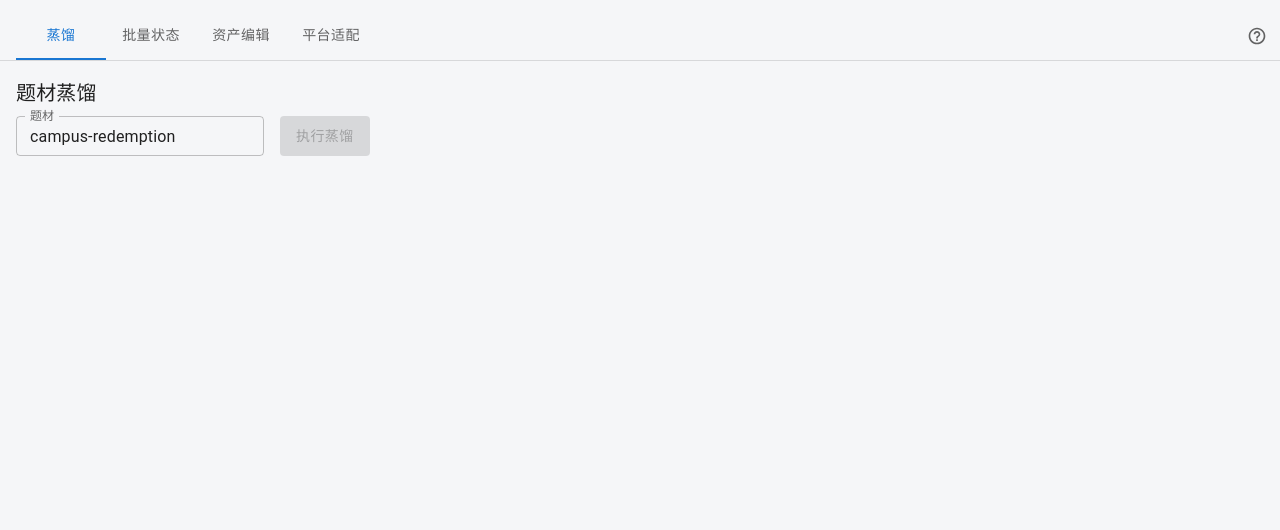
Test: 资产编辑面板 kind 标签边界 › 下拉与选中态 Chip 显示中文标签，索引不进可编辑列表
The image size is (1280, 530).
Click the tab "资产编辑" at (241, 36), box [196, 12, 286, 60]
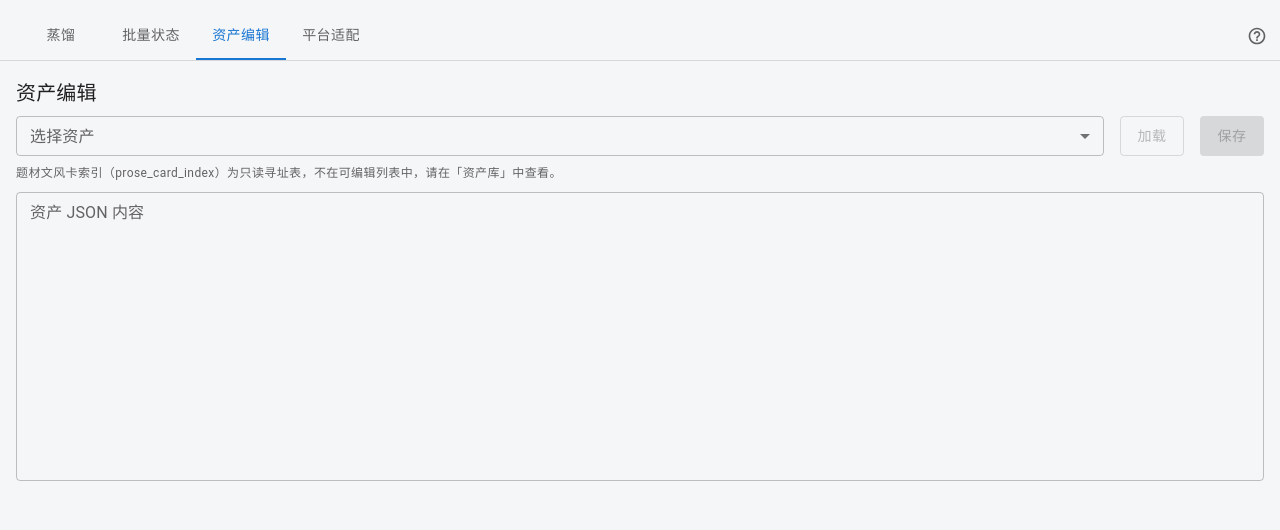
Press the mouse on the dropdown named "选择资产" at (560, 136), box [16, 116, 1104, 156]
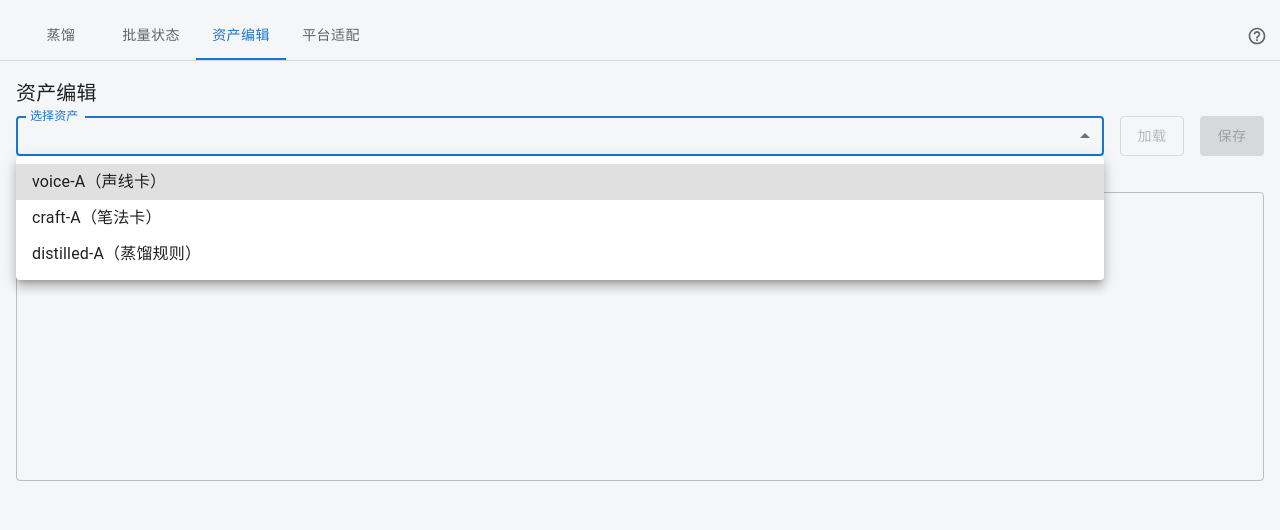
Click the option "distilled-A（蒸馏规则）" at (116, 254), box [32, 244, 201, 263]
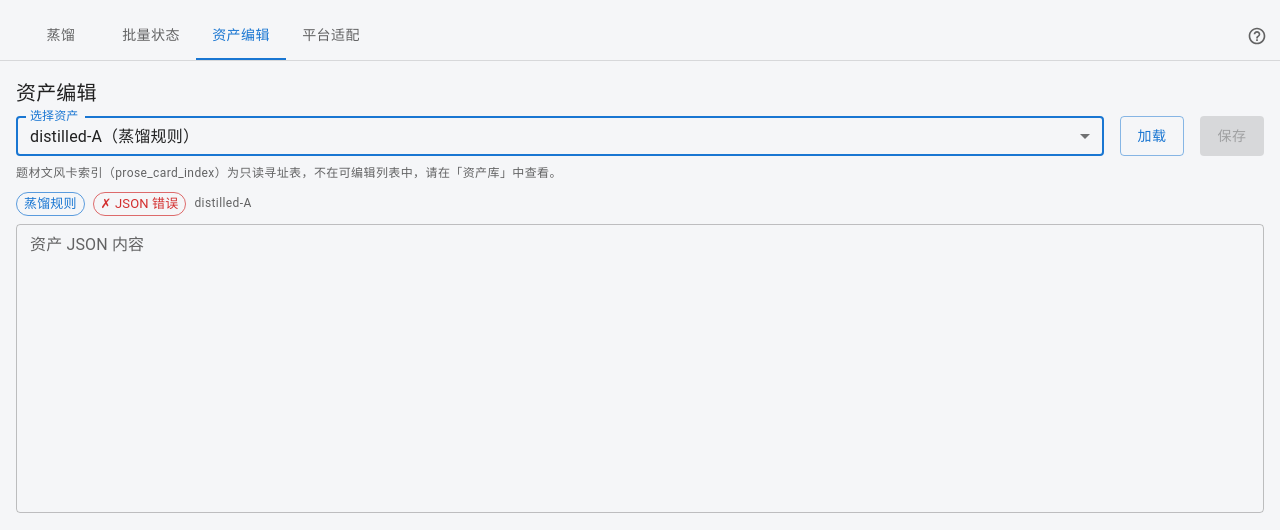
Now the text "题材文风卡索引（prose_card_index）为只读寻址表，不在可编辑列表中，请在「资产库」中查看。" is shown, box [16, 166, 562, 180]
Now the text "蒸馏规则" is shown, box [24, 196, 77, 211]
